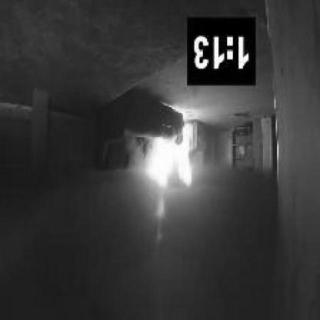Fire: (144, 120, 203, 203)
